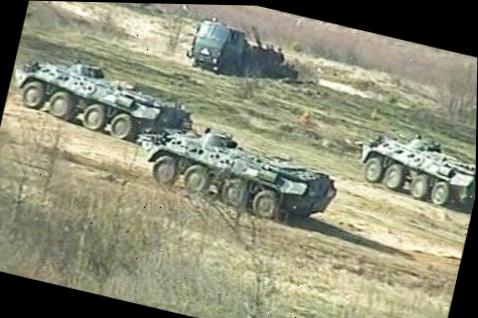tank: (128, 112, 344, 233), (4, 47, 196, 154), (353, 124, 476, 215)
truck: (185, 16, 290, 89)
